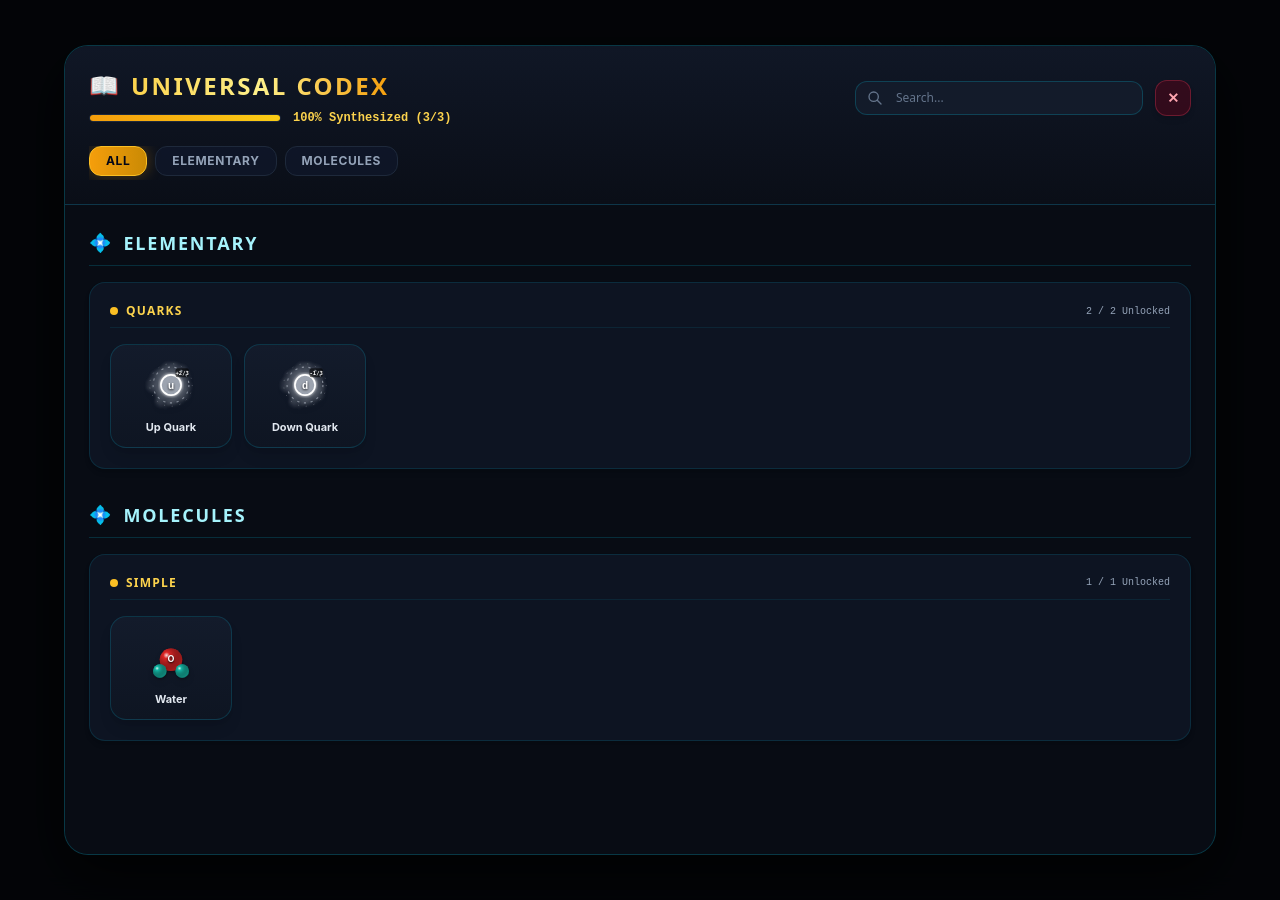
Codex Component › should filter by Category Tab
The width and height of the screenshot is (1280, 900).
Note: Click 'Molecules' tab
Click the button "Molecules": {"x": 341, "y": 161} [284,146,398,176]
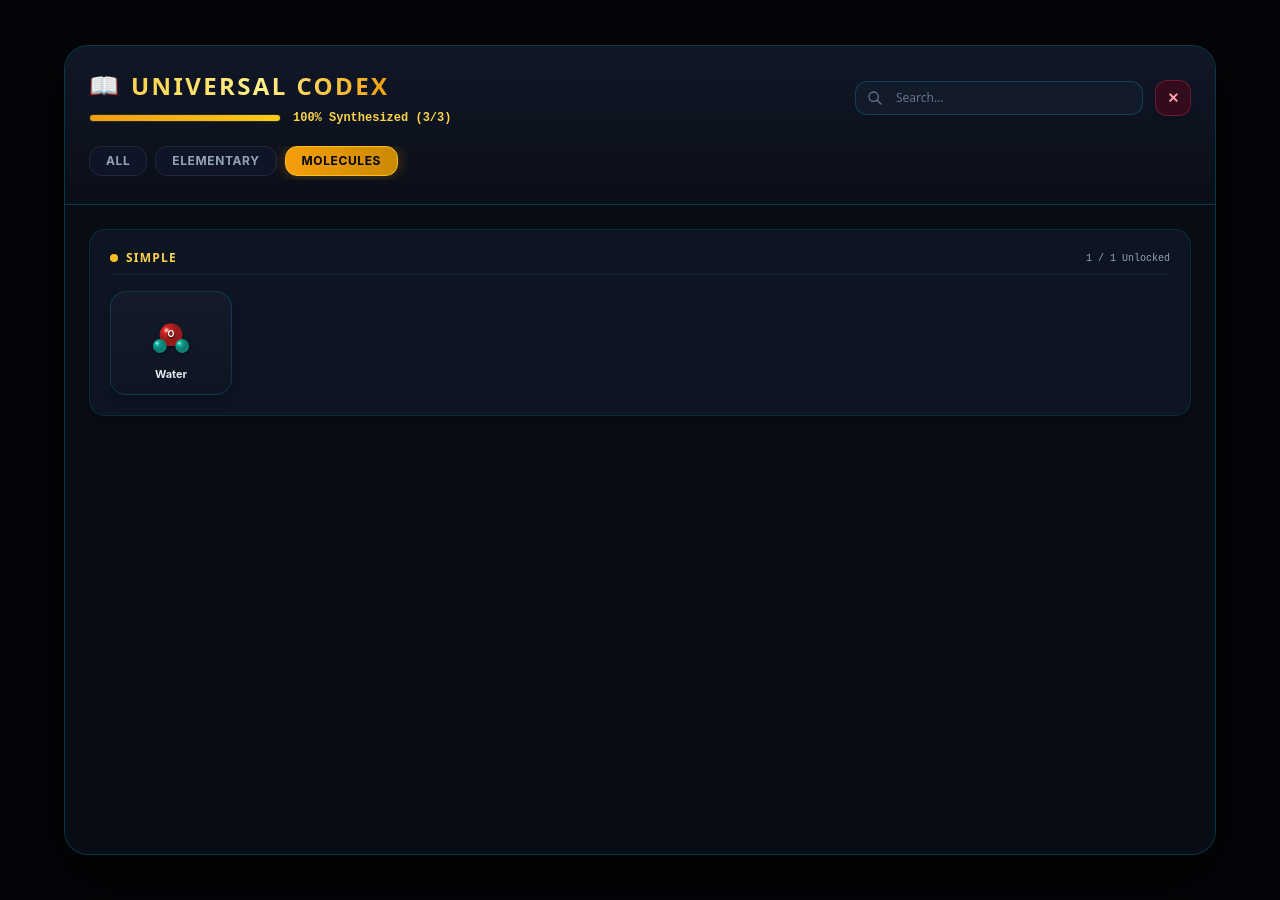
Expected: the text "Water" is shown, [155,367,187,381]
Now the text "Up Quark" is gone
